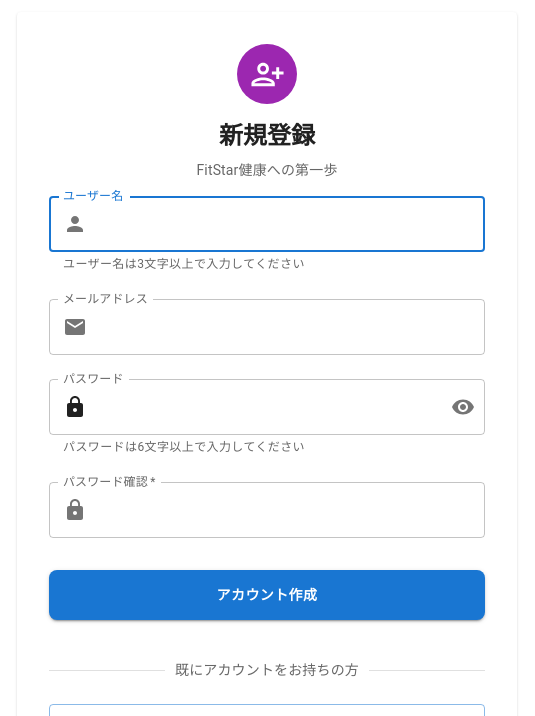
Register Component › ⚠️ 409エラー：既存メールアドレス
Type "testuser" into the field labelled "ユーザー名" at (290, 224), box [95,196,485,252]
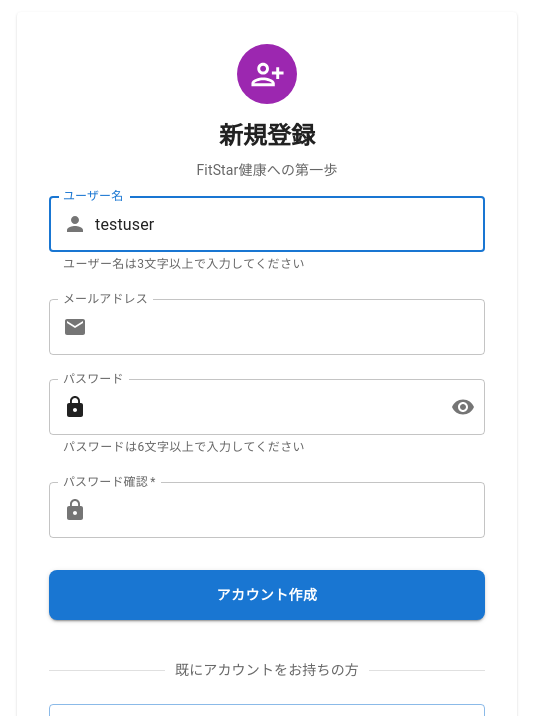
Type "existing@example.com" into the field labelled "メールアドレス" at (290, 327), box [95,299,485,355]
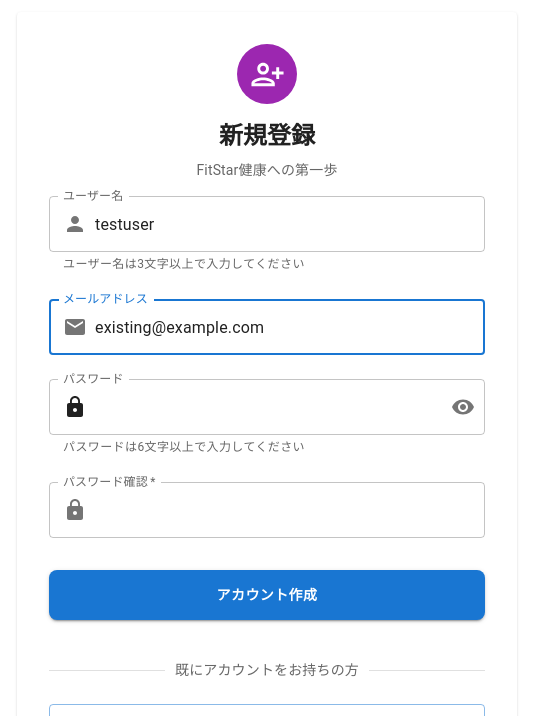
Type "password123" into the password field labelled "パスワード" at (269, 407), box [95,379,443,435]
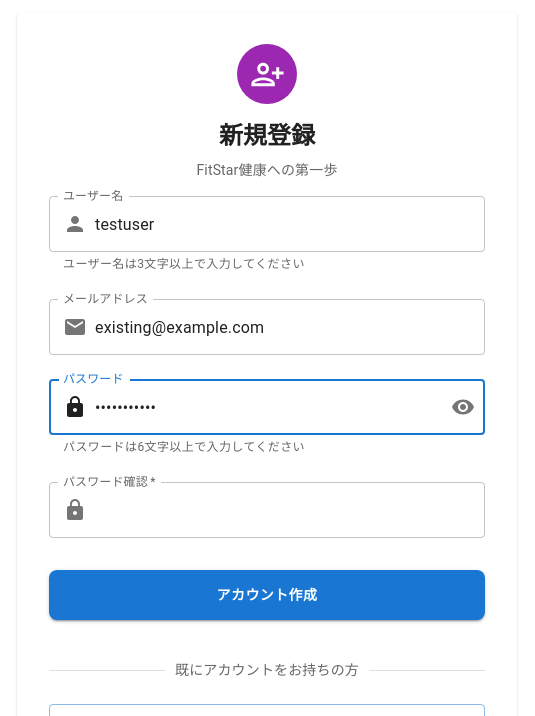
Type "password123" into the password field labelled "パスワード確認 *" at (290, 510), box [95,482,485,538]
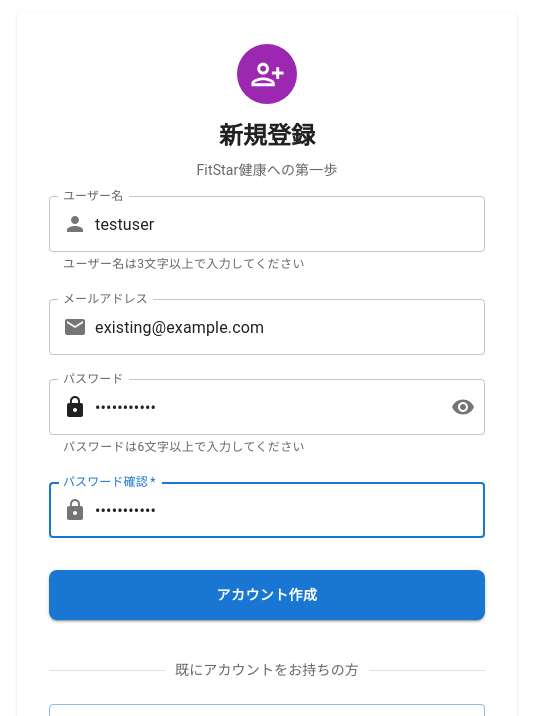
Click the button "アカウント作成" at (267, 595), box [49,570,485,620]
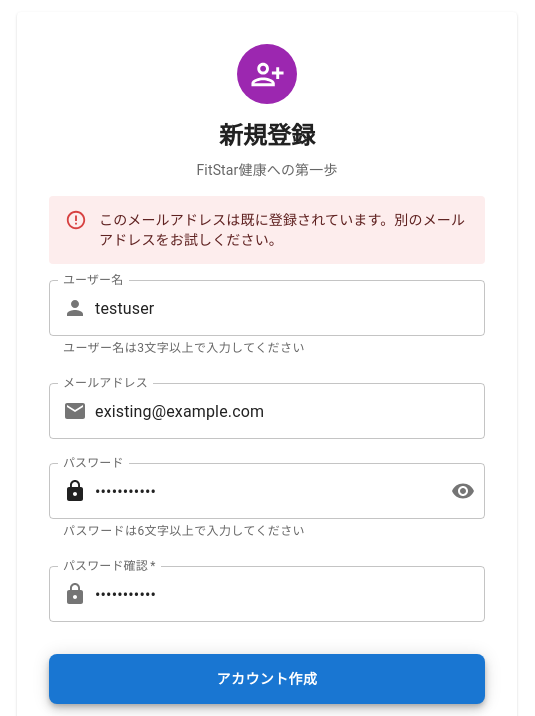
Expected: the message "このメールアドレスは既に登録されています。別のメールアドレスをお試しください。" is shown, [49,196,485,264]
Expected: the text "このメールアドレスは既に登録されています。別のメールアドレスをお試しください。" is shown, [99,202,469,258]
